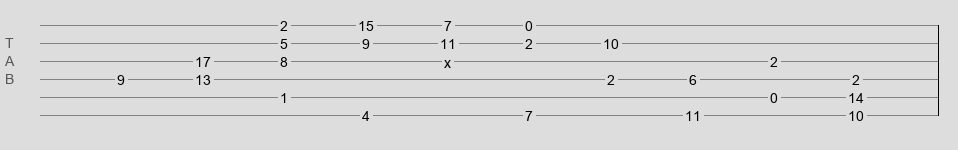0: (525, 18, 533, 28), (770, 90, 778, 100)
1: (280, 90, 288, 100)
10: (603, 36, 619, 46), (848, 108, 864, 118)
11: (440, 36, 456, 46), (685, 108, 701, 118)
13: (195, 72, 211, 82)
14: (848, 90, 864, 100)
15: (358, 18, 374, 28)
17: (195, 54, 211, 64)
2: (280, 18, 288, 28), (525, 36, 533, 46), (607, 72, 615, 82), (770, 54, 778, 64), (852, 72, 860, 82)
4: (362, 108, 370, 118)
5: (280, 36, 288, 46)
6: (689, 72, 697, 82)
7: (444, 18, 452, 28), (525, 108, 533, 118)
8: (280, 54, 288, 64)
9: (117, 72, 125, 82), (362, 36, 370, 46)
x: (444, 55, 451, 63)
